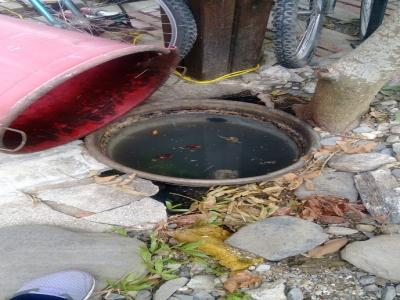bucket: (1, 11, 177, 158)
plate: (79, 95, 319, 189)
